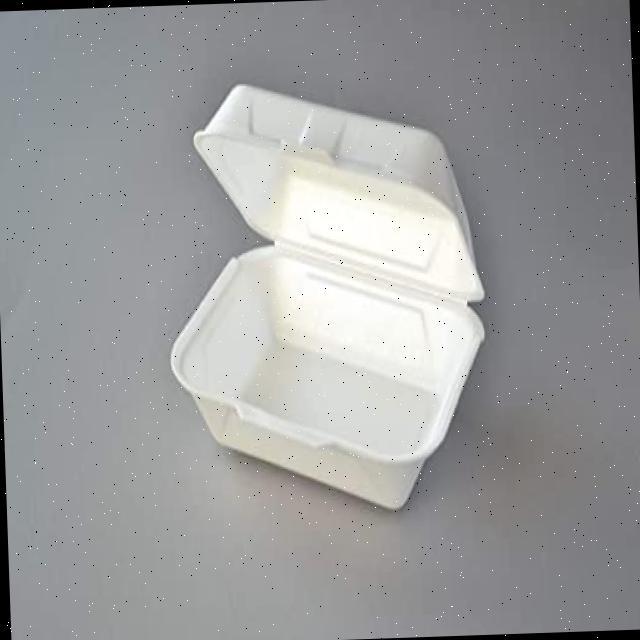styrofoam: (158, 71, 492, 518)
